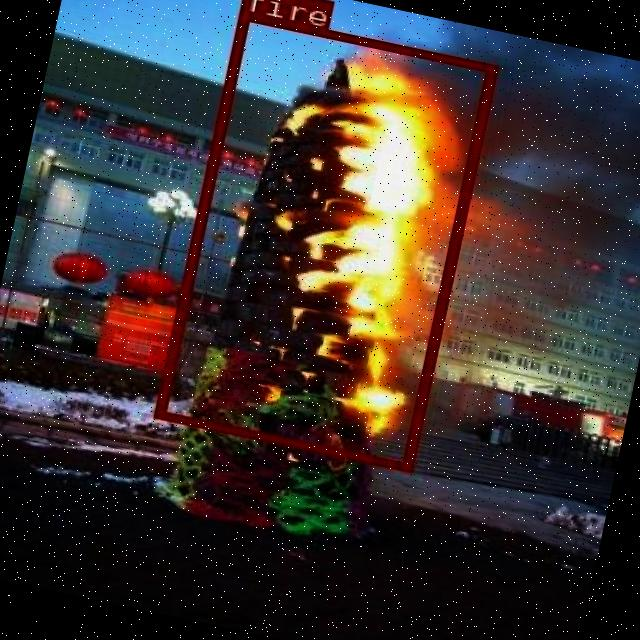fire: (152, 9, 495, 469)
